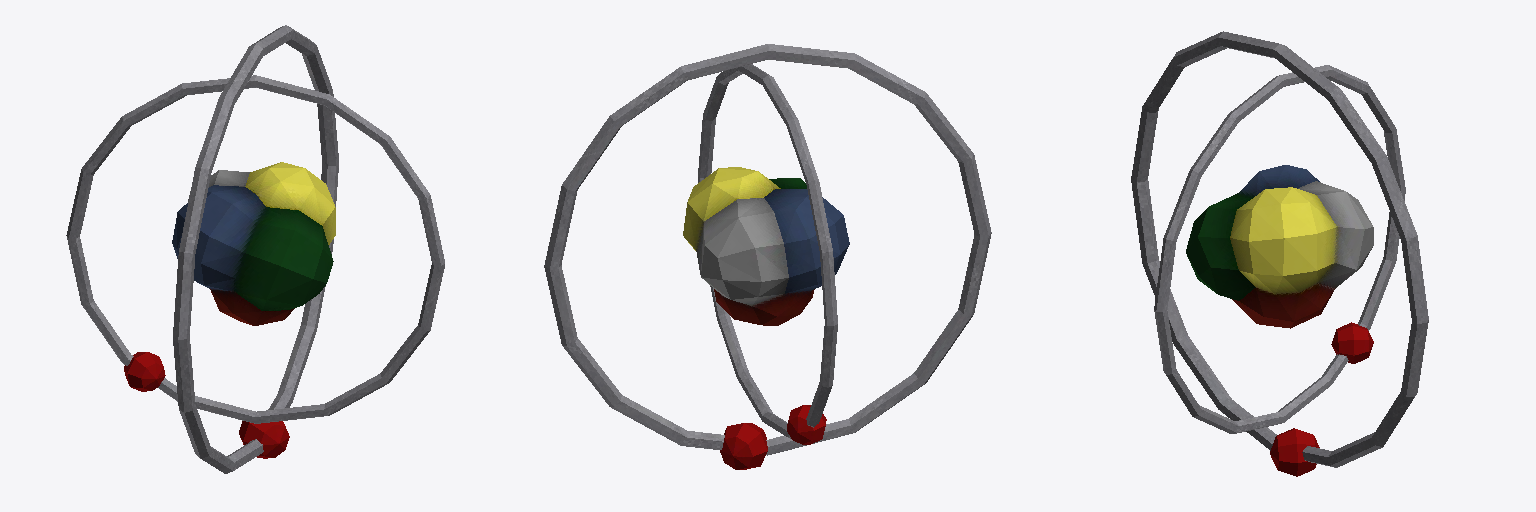
3 views of the same model, side by side, from view 1: azimuth 30°, elevation 25°; view 2: azimuth 150°, elevation 25°; view 3: azimuth 270°, elevation 25° (orthographic).
Visible parts, largest first — view 1: unwrapped2, Object09, Object10, Object12, Object11; view 2: Object09, unwrapped2, Object10, Object12, Object11; view 3: unwrapped2, Object09, Object10, Object12, Object11.
Boxes of the visible parts, x1,y1,x2,y2 form: unwrapped2: [172, 162, 335, 325]; Object09: [173, 25, 338, 473]; Object10: [66, 75, 444, 423]; Object12: [239, 421, 289, 458]; Object11: [124, 352, 165, 391]; Object09: [544, 44, 991, 455]; unwrapped2: [683, 167, 849, 325]; Object10: [698, 64, 837, 438]; Object12: [720, 423, 767, 469]; Object11: [787, 405, 826, 444]; unwrapped2: [1186, 165, 1373, 328]; Object09: [1131, 31, 1428, 467]; Object10: [1154, 65, 1405, 433]; Object12: [1270, 428, 1319, 476]; Object11: [1331, 322, 1373, 363].
Size of the model in its own units: 27.27 by 36.4 by 23.15.
1 materials, 1 textured.